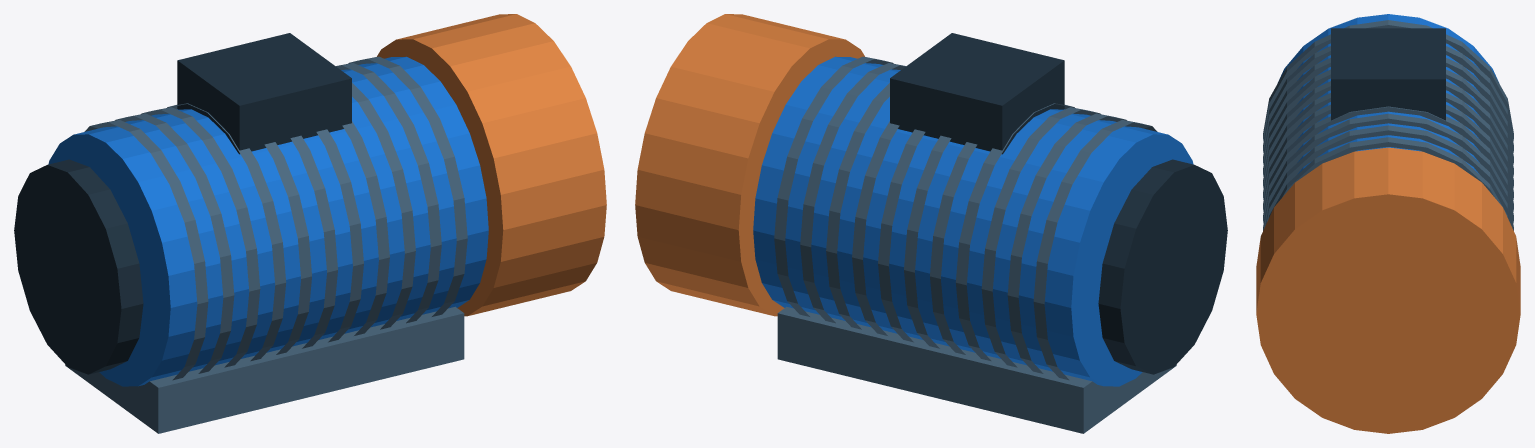
The model's file is 17_L76_PrecisionRecirculationPump.fbx.
3 views of the same model, side by side, from view 1: azimuth 30°, elevation 25°; view 2: azimuth 150°, elevation 25°; view 3: azimuth 270°, elevation 25° (orthographic). The views are drawn at different scales.
Visible parts, largest first — view 1: PrecisionRecirculationPump, PrecisionRecirculationPump_Part_0016; view 2: PrecisionRecirculationPump, PrecisionRecirculationPump_Part_0016; view 3: PrecisionRecirculationPump_Part_0016, PrecisionRecirculationPump.
Boxes of the visible parts, x1,y1,x2,y2 form: PrecisionRecirculationPump: (14,33,488,433); PrecisionRecirculationPump_Part_0016: (377,14,606,316); PrecisionRecirculationPump: (753,33,1227,433); PrecisionRecirculationPump_Part_0016: (635,14,864,316); PrecisionRecirculationPump_Part_0016: (1256,147,1520,433); PrecisionRecirculationPump: (1263,14,1513,230).
Bounding box in the file's own units: 162 × 97.32 × 86.
